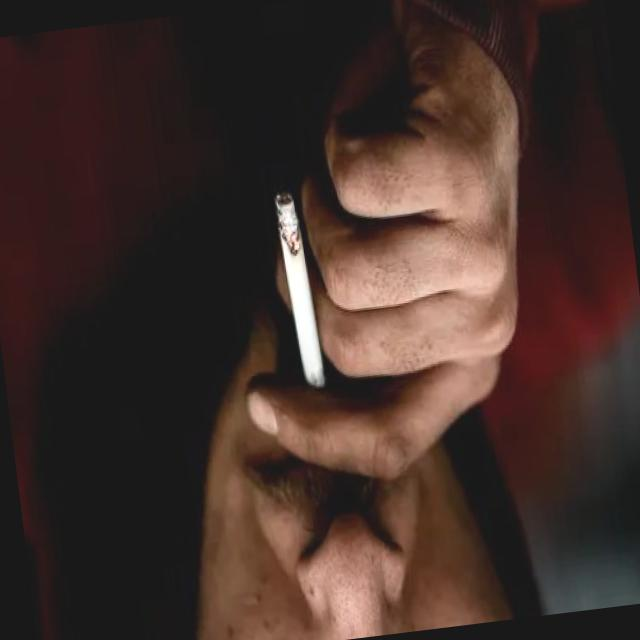smoke: (268, 179, 336, 403)
